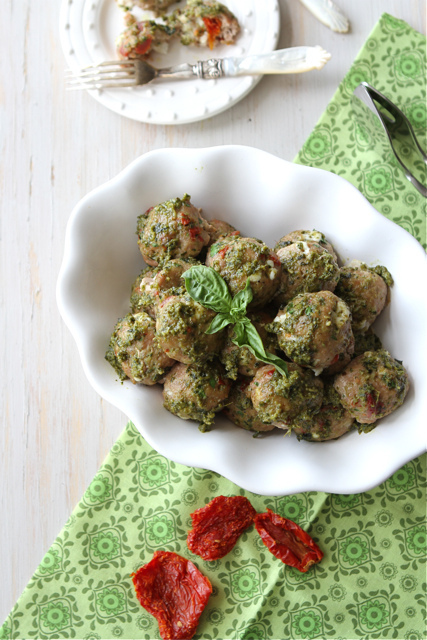meatballs: (150, 342, 233, 415), (343, 344, 409, 426), (158, 300, 243, 363), (252, 362, 325, 429), (281, 299, 356, 359), (106, 314, 171, 380), (209, 238, 277, 300), (268, 227, 325, 294), (144, 202, 201, 264), (137, 267, 210, 315), (339, 263, 385, 324)
